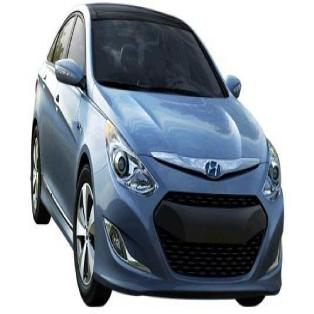Auto: (30, 3, 284, 306)
